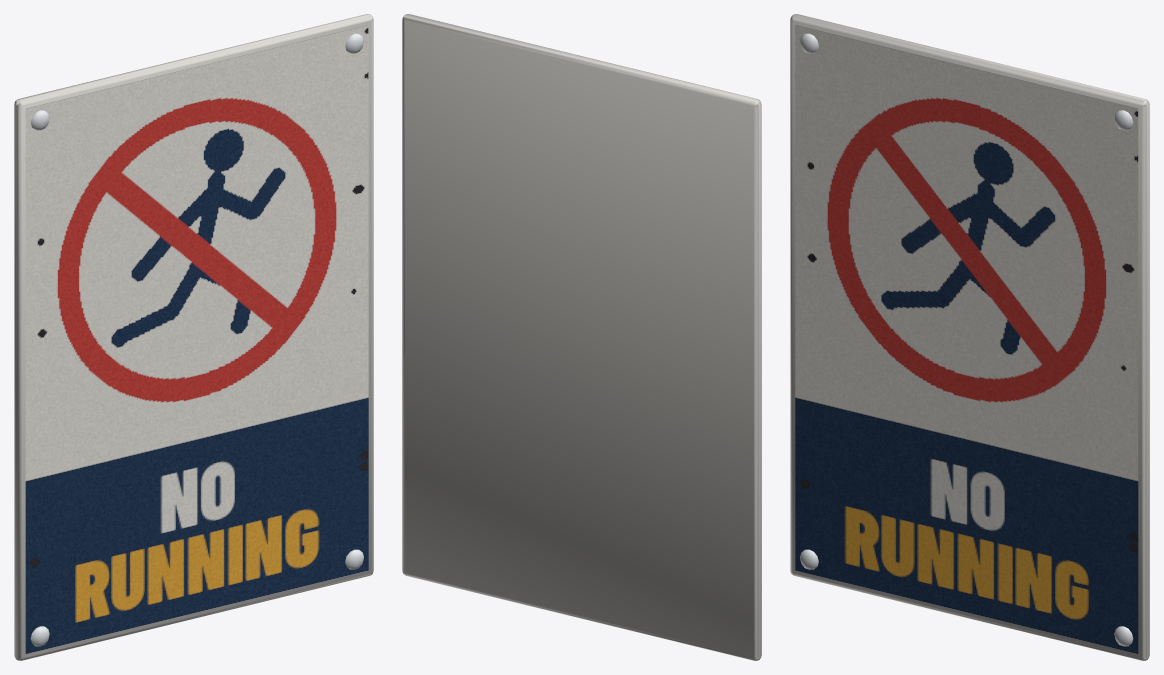
Rendered from no_running.glb.
3 renders of one model, left to right at view 1: azimuth 30°, elevation 25°; view 2: azimuth 150°, elevation 25°; view 3: azimuth 330°, elevation 25°, orthographic.
Parts seen in each view (by area): view 1: NoRunningBody; view 2: NoRunningBody; view 3: NoRunningBody.
Boxes of the visible parts, x1=… form: NoRunningBody: x1=14, y1=14, x2=373, y2=660; NoRunningBody: x1=402, y1=14, x2=761, y2=660; NoRunningBody: x1=790, y1=14, x2=1149, y2=660.
Size of the model in its own units: 0.3 by 0.45 by 0.013.
Materials: 3 (1 with a texture image).
